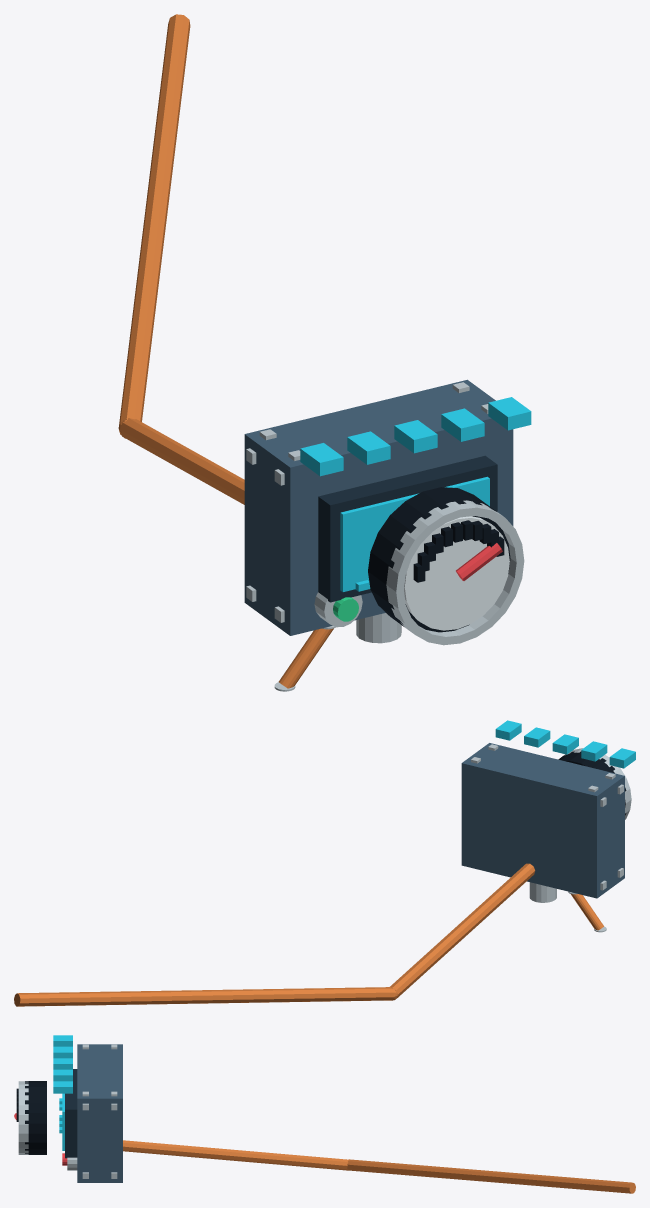
Rendered from 35_L75_PrecisionVacuumPressureGauge.fbx.
The picture shows the model from 3 angles, top to bottom: view 1: azimuth 30°, elevation 25°; view 2: azimuth 150°, elevation 25°; view 3: azimuth 270°, elevation 25°; orthographic projection. The views are drawn at different scales.
Visible parts, largest first — view 1: PrecisionVacuumPressureGauge; view 2: PrecisionVacuumPressureGauge; view 3: PrecisionVacuumPressureGauge.
Boxes of the visible parts, x1,y1,x2,y2 form: PrecisionVacuumPressureGauge: (118, 14, 531, 691); PrecisionVacuumPressureGauge: (14, 720, 635, 1006); PrecisionVacuumPressureGauge: (14, 1035, 635, 1193).
Bounding box in the file's own units: 107 × 59.34 × 252.
